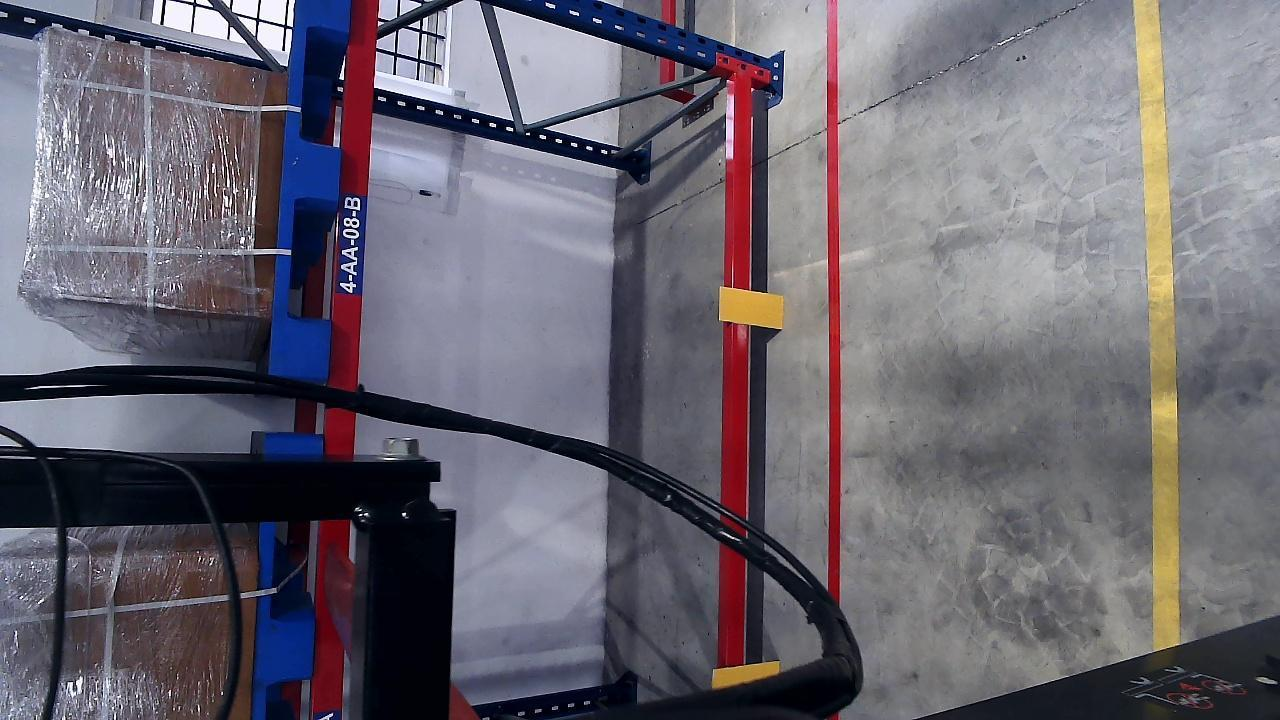red_line: (816, 0, 844, 590)
yellow_line: (1133, 0, 1181, 644)
